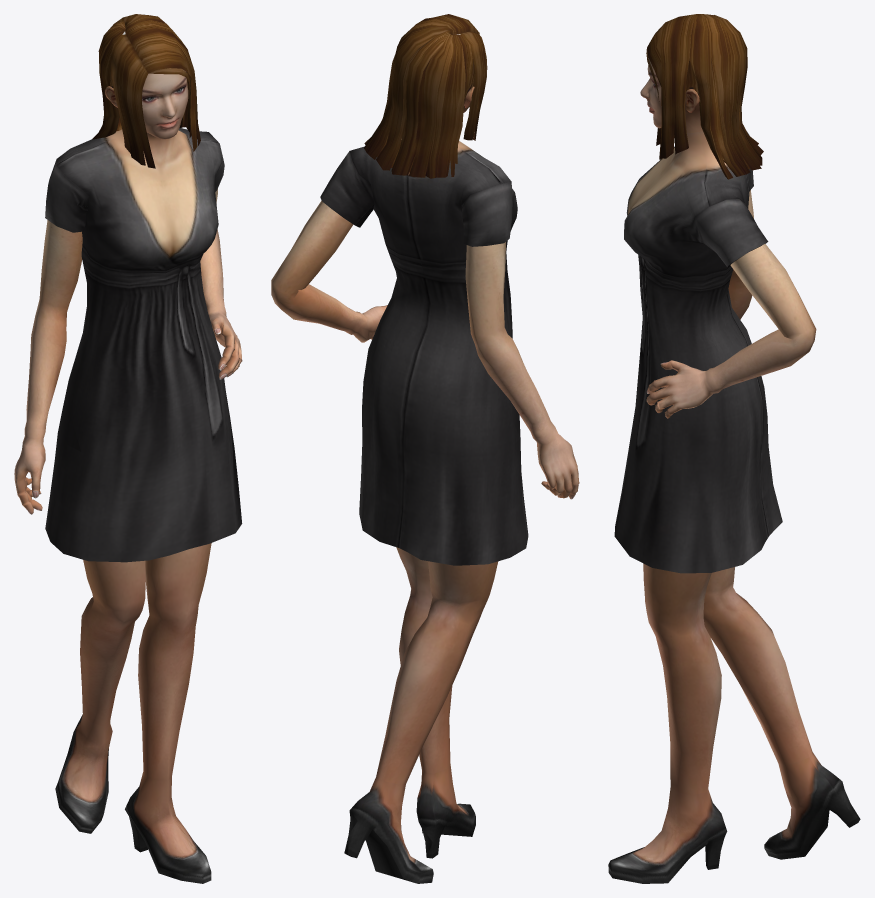
File: sweethome3d-reallusion-female-1.glb
3 views of the same model, side by side, from view 1: azimuth 30°, elevation 25°; view 2: azimuth 150°, elevation 25°; view 3: azimuth 270°, elevation 25° (orthographic).
Parts seen in each view (by area): view 1: 1, 6, 9, 10, 7, 2, 4; view 2: 1, 9, 10, 7, 6, 4; view 3: 1, 6, 9, 10, 4, 2, 7.
Boxes of the visible parts, left/top/right/bottom form: 1: left=45, top=128, right=242, bottom=562; 6: left=125, top=543, right=211, bottom=883; 9: left=55, top=559, right=145, bottom=833; 10: left=92, top=14, right=200, bottom=168; 7: left=14, top=220, right=82, bottom=514; 2: left=105, top=69, right=188, bottom=139; 4: left=200, top=188, right=242, bottom=379; 1: left=320, top=139, right=528, bottom=565; 9: left=344, top=561, right=498, bottom=883; 10: left=364, top=14, right=487, bottom=178; 7: left=465, top=242, right=579, bottom=499; 6: left=396, top=547, right=475, bottom=858; 4: left=271, top=201, right=387, bottom=342; 1: left=614, top=131, right=782, bottom=573; 6: left=608, top=563, right=727, bottom=883; 9: left=703, top=567, right=860, bottom=859; 10: left=646, top=14, right=763, bottom=179; 4: left=646, top=244, right=816, bottom=418; 2: left=640, top=59, right=702, bottom=133; 7: left=728, top=190, right=753, bottom=319.
Bounding box in the file's own units: 53.04 × 168 × 45.25.
Materials: 4 (3 with a texture image).
